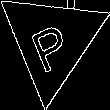P_NW: (26, 10, 77, 71)
